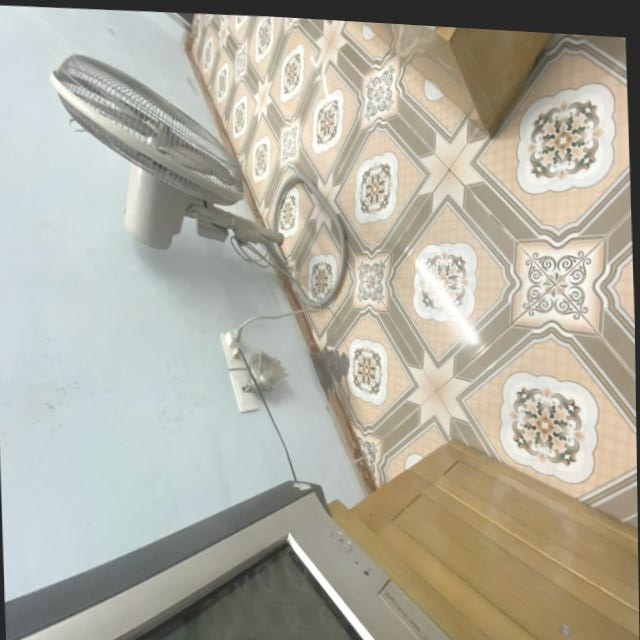outlet: (228, 370, 259, 415), (219, 330, 248, 371)
